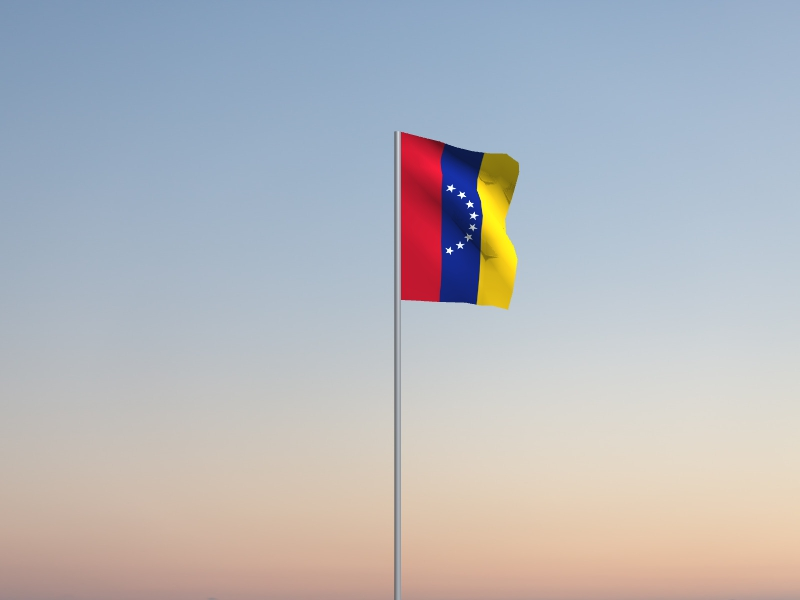ve: (401, 132, 520, 311)
